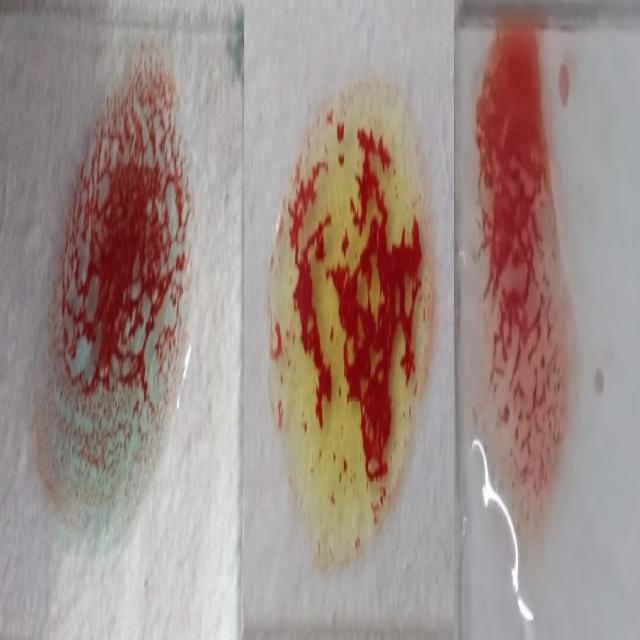A: (42, 47, 190, 549)
B: (272, 78, 432, 560)
D: (470, 22, 587, 569)
